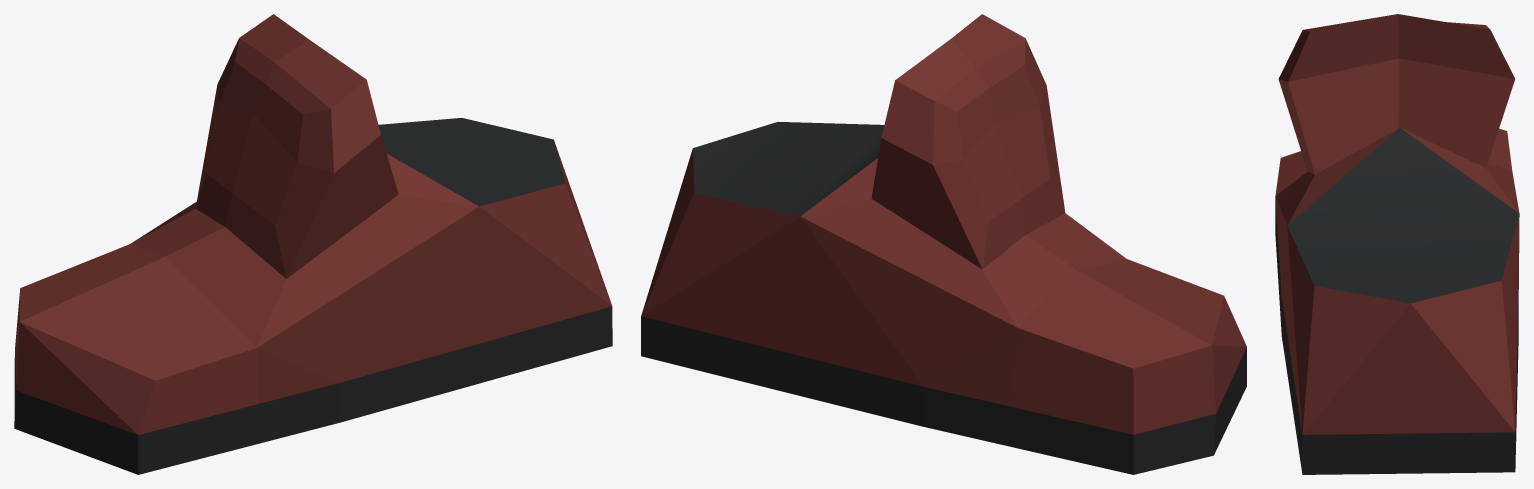
Rendered from SM_Prop_Shoes_04.glb.
3 views of the same model, side by side, from view 1: azimuth 30°, elevation 25°; view 2: azimuth 150°, elevation 25°; view 3: azimuth 270°, elevation 25° (orthographic).
Visible parts, largest first — view 1: SM_Prop_Shoes_04; view 2: SM_Prop_Shoes_04; view 3: SM_Prop_Shoes_04.
Part boxes in pixels (x1,y1,x2,y2): SM_Prop_Shoes_04: (14,14,612,474); SM_Prop_Shoes_04: (641,14,1246,474); SM_Prop_Shoes_04: (1275,14,1519,474).
Size of the model in its own units: 0.2415 by 0.1446 by 0.0953.
Materials: 1 (1 with a texture image).
